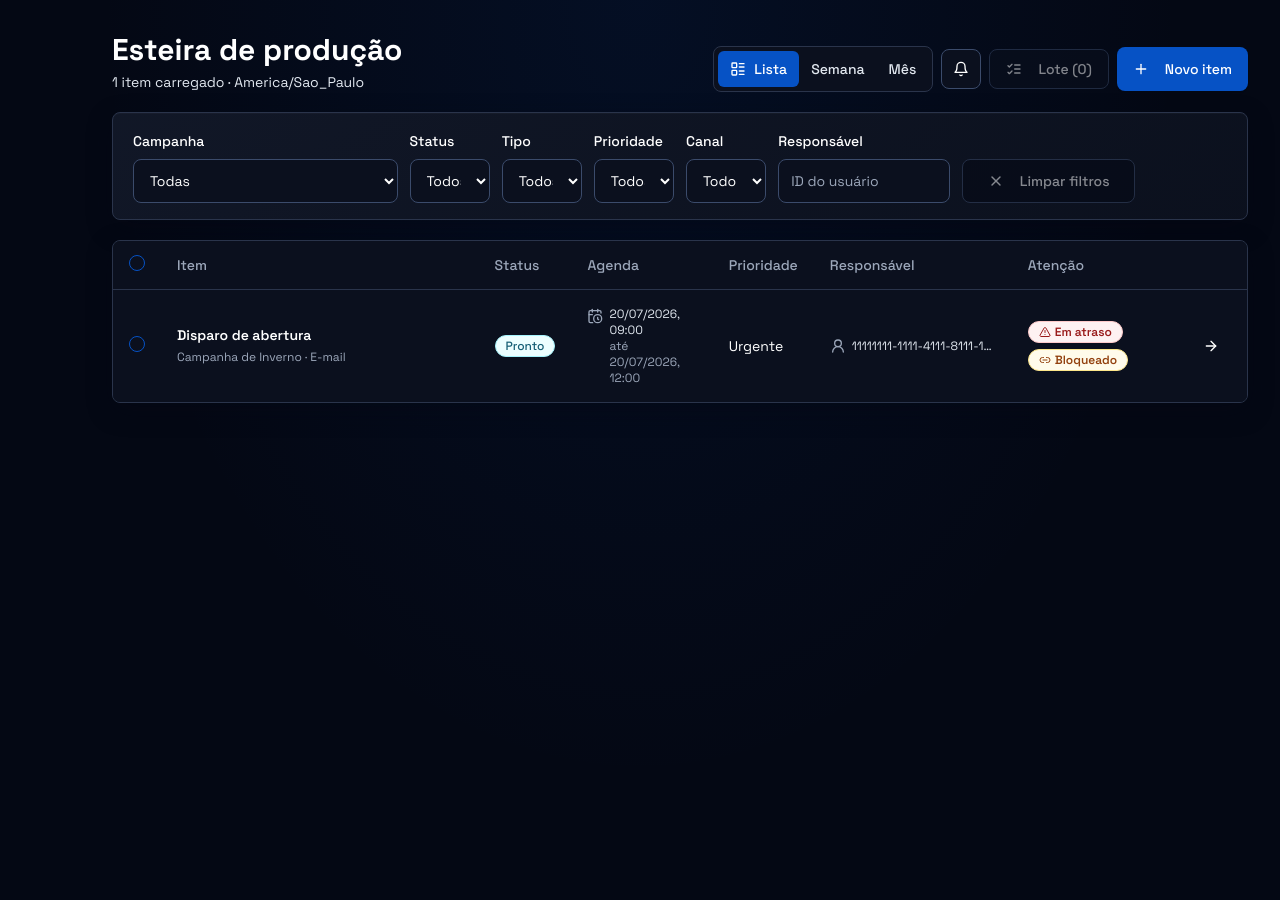
Test case: ProductionListPage › exposes batch selection only when the caller has manager authority
Click the checkbox named "Selecionar Disparo de abertura".
click(137, 344)  # box [129,336,145,352]
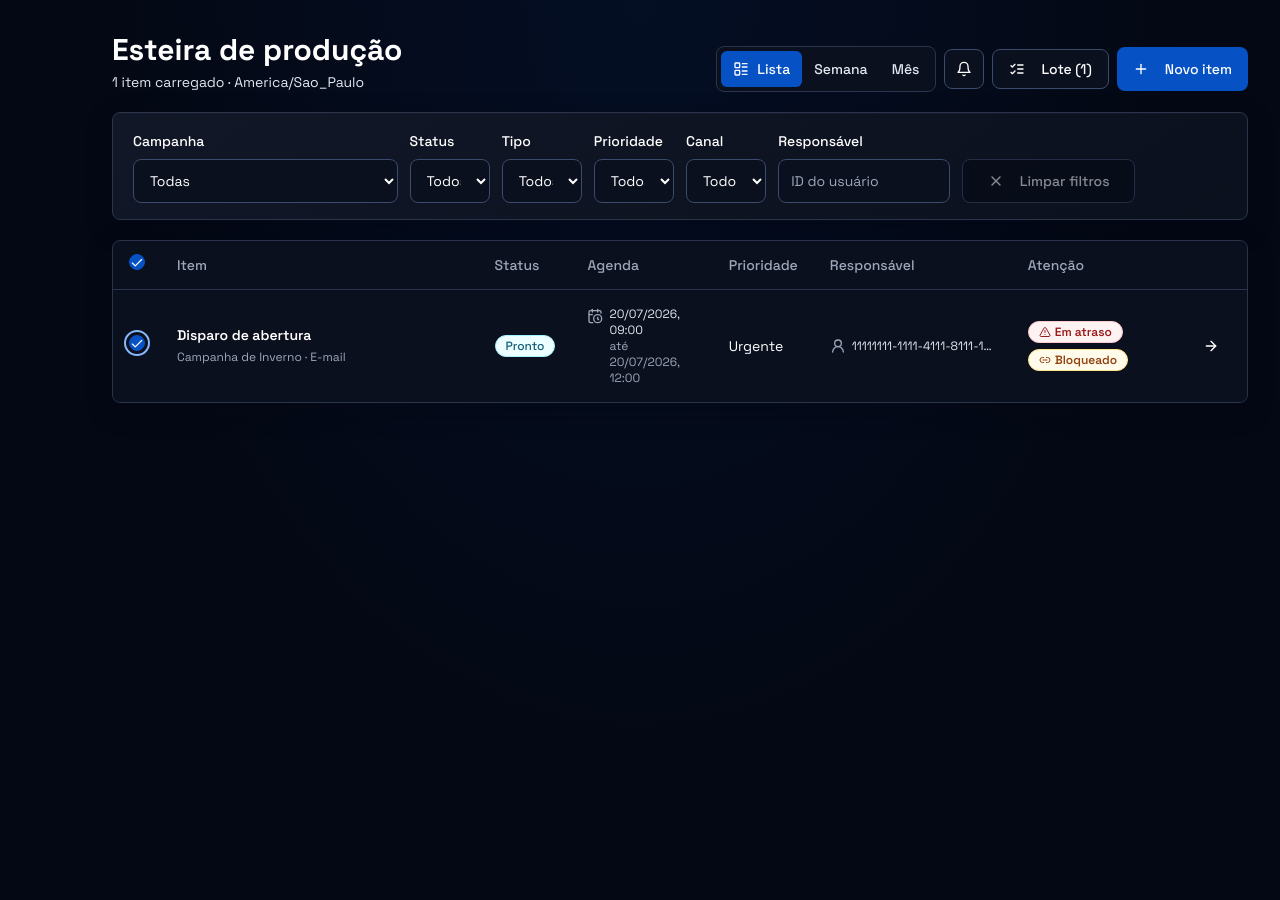
Click the button "Lote (1)".
click(1051, 69)  # box [992,49,1109,89]
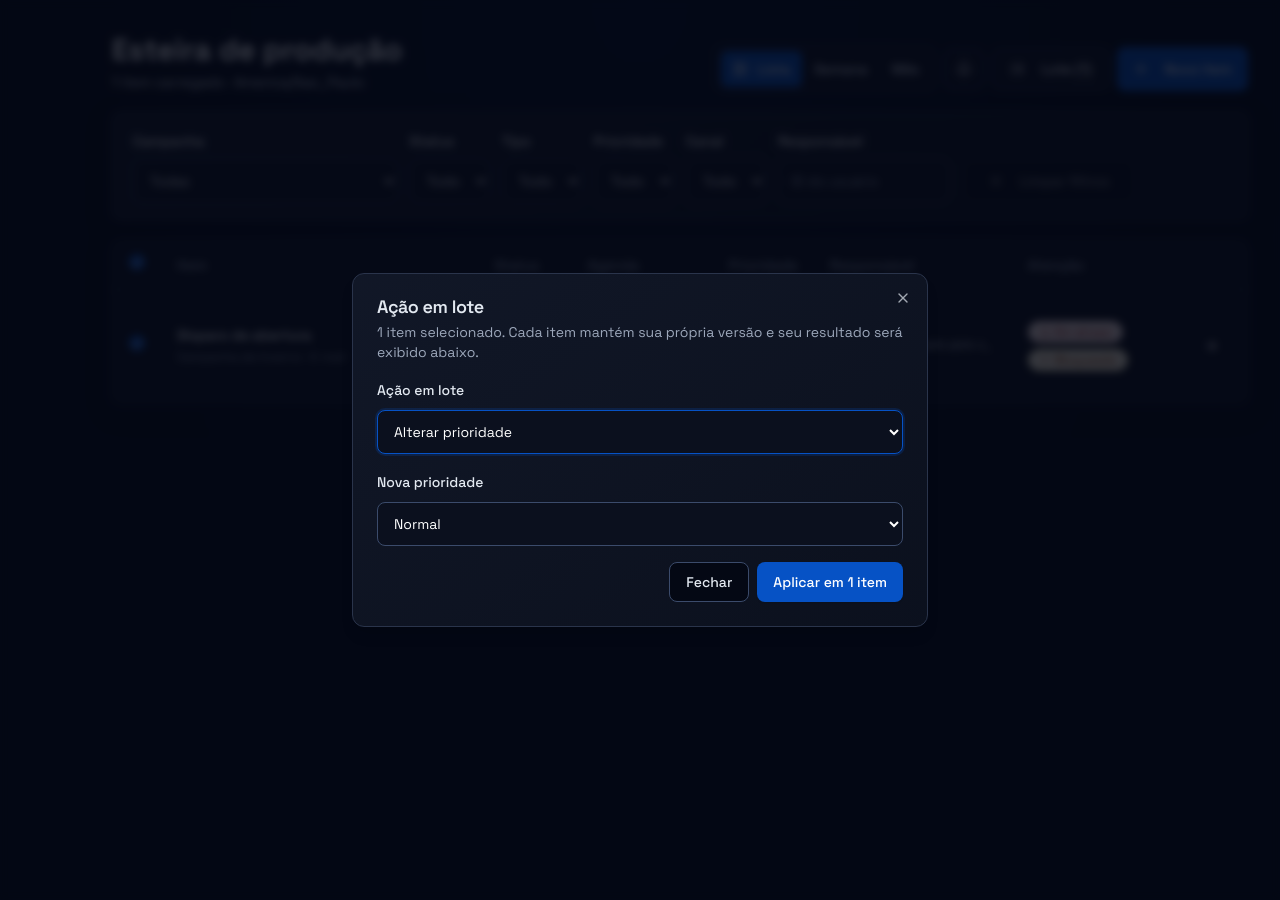
Expected: the dialog "Ação em lote" is shown, [352,273,928,627]
